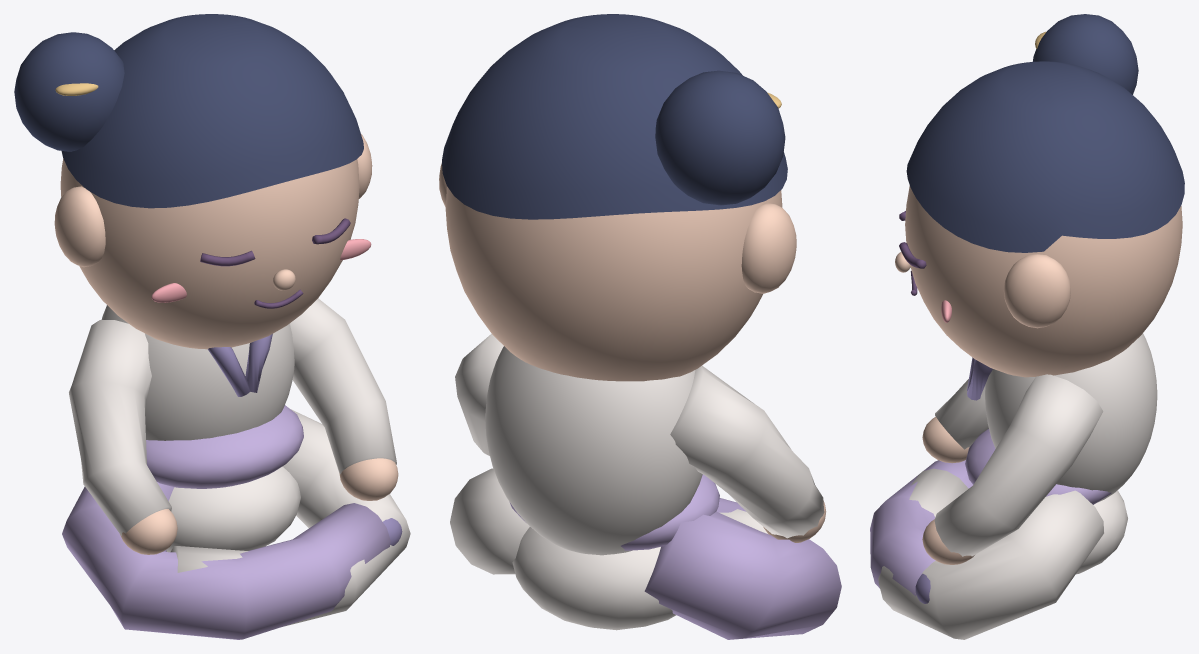
File: meditator_base.glb
3 renders of one model, left to right at view 1: azimuth 30°, elevation 25°; view 2: azimuth 150°, elevation 25°; view 3: azimuth 270°, elevation 25°, orthographic. The views are drawn at different scales.
Visible parts, largest first — view 1: hair_blue_black_UpperBodyBreath_object, skin_rose_cream_UpperBodyBreath_object, robe_cream_UpperBodyBreath_object, robe_lavender_SeatRoot_object, robe_cream_SeatRoot_object, robe_lavender_UpperBodyBreath_object, robe_amethyst_UpperBodyBreath_object, eyes_mauve_UpperBodyBreath_object, skin_blush_UpperBodyBreath_object; view 2: hair_blue_black_UpperBodyBreath_object, skin_rose_cream_UpperBodyBreath_object, robe_cream_UpperBodyBreath_object, robe_lavender_SeatRoot_object, robe_cream_SeatRoot_object, robe_lavender_UpperBodyBreath_object; view 3: hair_blue_black_UpperBodyBreath_object, skin_rose_cream_UpperBodyBreath_object, robe_cream_UpperBodyBreath_object, robe_cream_SeatRoot_object, robe_lavender_SeatRoot_object, robe_lavender_UpperBodyBreath_object, robe_amethyst_UpperBodyBreath_object, eyes_mauve_UpperBodyBreath_object.
Part boxes in pixels (bbox=[...]): hair_blue_black_UpperBodyBreath_object: bbox=[14, 14, 363, 208]; skin_rose_cream_UpperBodyBreath_object: bbox=[54, 134, 398, 554]; robe_cream_UpperBodyBreath_object: bbox=[69, 298, 396, 535]; robe_lavender_SeatRoot_object: bbox=[62, 482, 390, 639]; robe_cream_SeatRoot_object: bbox=[166, 409, 410, 626]; robe_lavender_UpperBodyBreath_object: bbox=[146, 405, 303, 488]; robe_amethyst_UpperBodyBreath_object: bbox=[208, 334, 272, 396]; eyes_mauve_UpperBodyBreath_object: bbox=[200, 218, 350, 308]; skin_blush_UpperBodyBreath_object: bbox=[151, 239, 371, 302]; hair_blue_black_UpperBodyBreath_object: bbox=[442, 14, 787, 219]; skin_rose_cream_UpperBodyBreath_object: bbox=[439, 163, 826, 542]; robe_cream_UpperBodyBreath_object: bbox=[455, 333, 824, 555]; robe_lavender_SeatRoot_object: bbox=[644, 498, 841, 639]; robe_cream_SeatRoot_object: bbox=[450, 468, 767, 630]; robe_lavender_UpperBodyBreath_object: bbox=[509, 474, 719, 550]; hair_blue_black_UpperBodyBreath_object: bbox=[906, 14, 1184, 252]; skin_rose_cream_UpperBodyBreath_object: bbox=[895, 185, 1182, 564]; robe_cream_UpperBodyBreath_object: bbox=[934, 333, 1157, 556]; robe_cream_SeatRoot_object: bbox=[878, 468, 1127, 639]; robe_lavender_SeatRoot_object: bbox=[870, 460, 972, 596]; robe_lavender_UpperBodyBreath_object: bbox=[965, 429, 1111, 504]; robe_amethyst_UpperBodyBreath_object: bbox=[967, 357, 992, 400]; eyes_mauve_UpperBodyBreath_object: bbox=[899, 211, 926, 295].
Bounding box in the file's own units: 0.703 × 1.15 × 0.6347.
